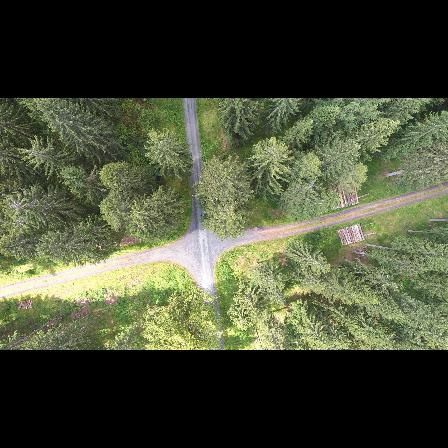Sick: (20, 140, 45, 164), (301, 175, 323, 197), (5, 194, 27, 215)
